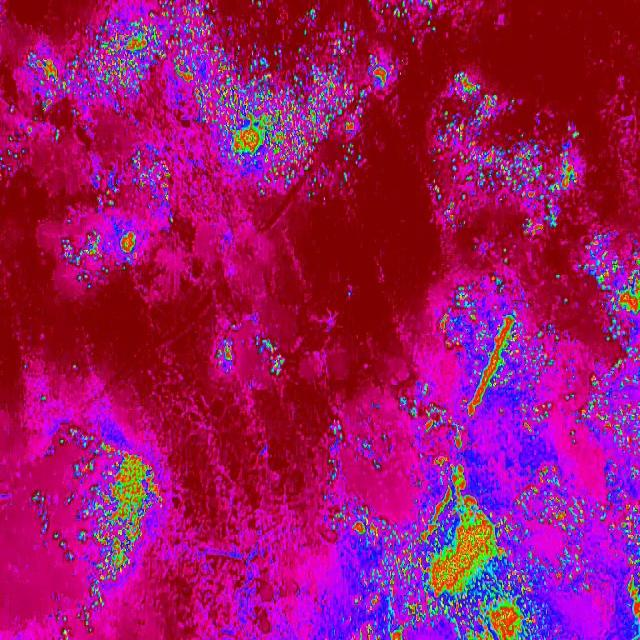fire: (0, 47, 357, 187), (336, 462, 592, 640), (430, 78, 582, 238), (29, 422, 168, 596), (592, 230, 640, 640), (436, 286, 560, 434), (84, 0, 222, 46), (58, 223, 140, 294), (256, 336, 290, 374), (365, 52, 396, 88), (218, 337, 238, 373)
